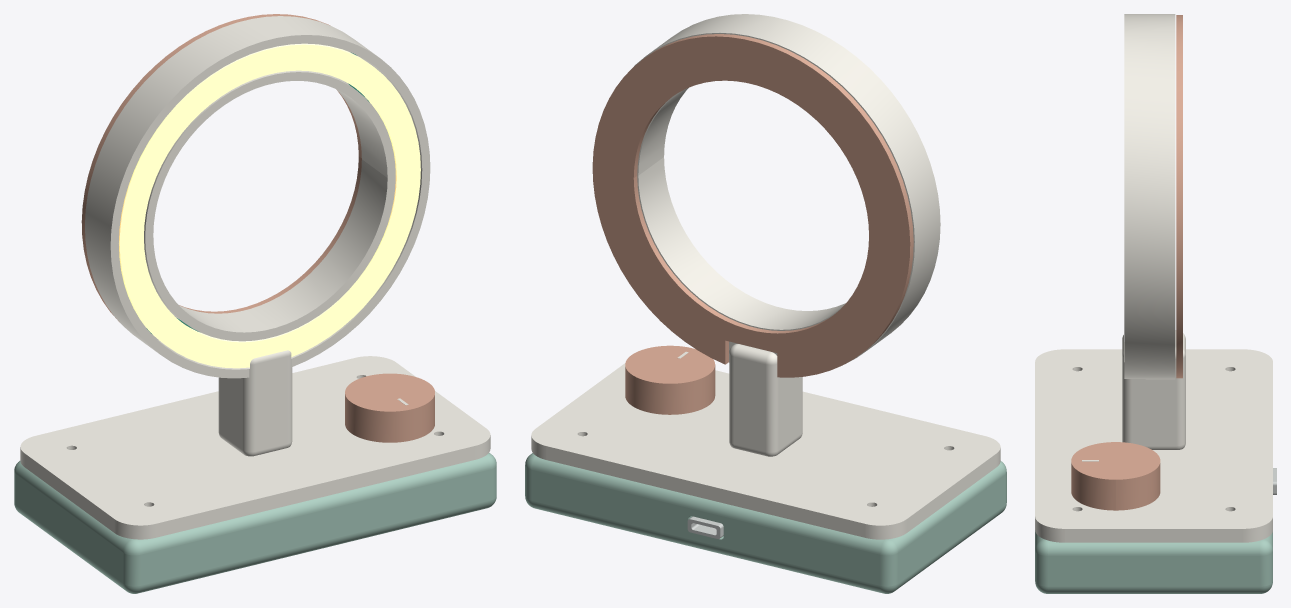
The model's file is 05_彩色查看.glb.
The picture shows the model from 3 angles, left to right: view 1: azimuth 30°, elevation 25°; view 2: azimuth 150°, elevation 25°; view 3: azimuth 270°, elevation 25°; orthographic projection.
Parts seen in each view (by area): view 1: RingFrame, BaseLower, Diffuser, Knob, RingRear; view 2: RingFrame, RingRear, BaseLower, Knob; view 3: RingFrame, BaseLower, Knob, RingRear.
Part boxes in pixels (bbox=[...]): RingFrame: bbox=[20, 16, 490, 539]; BaseLower: bbox=[14, 453, 496, 593]; Diffuser: bbox=[119, 43, 420, 368]; Knob: bbox=[345, 373, 434, 442]; RingRear: bbox=[81, 14, 361, 322]; RingFrame: bbox=[531, 14, 1000, 539]; RingRear: bbox=[592, 34, 913, 377]; BaseLower: bbox=[525, 453, 1006, 593]; Knob: bbox=[625, 345, 715, 414]; RingFrame: bbox=[1035, 14, 1272, 542]; BaseLower: bbox=[1035, 530, 1272, 593]; Knob: bbox=[1071, 442, 1160, 510]; RingRear: bbox=[1176, 15, 1182, 378].
Bounding box in the file's own units: 0.1 × 0.125 × 0.0569.
